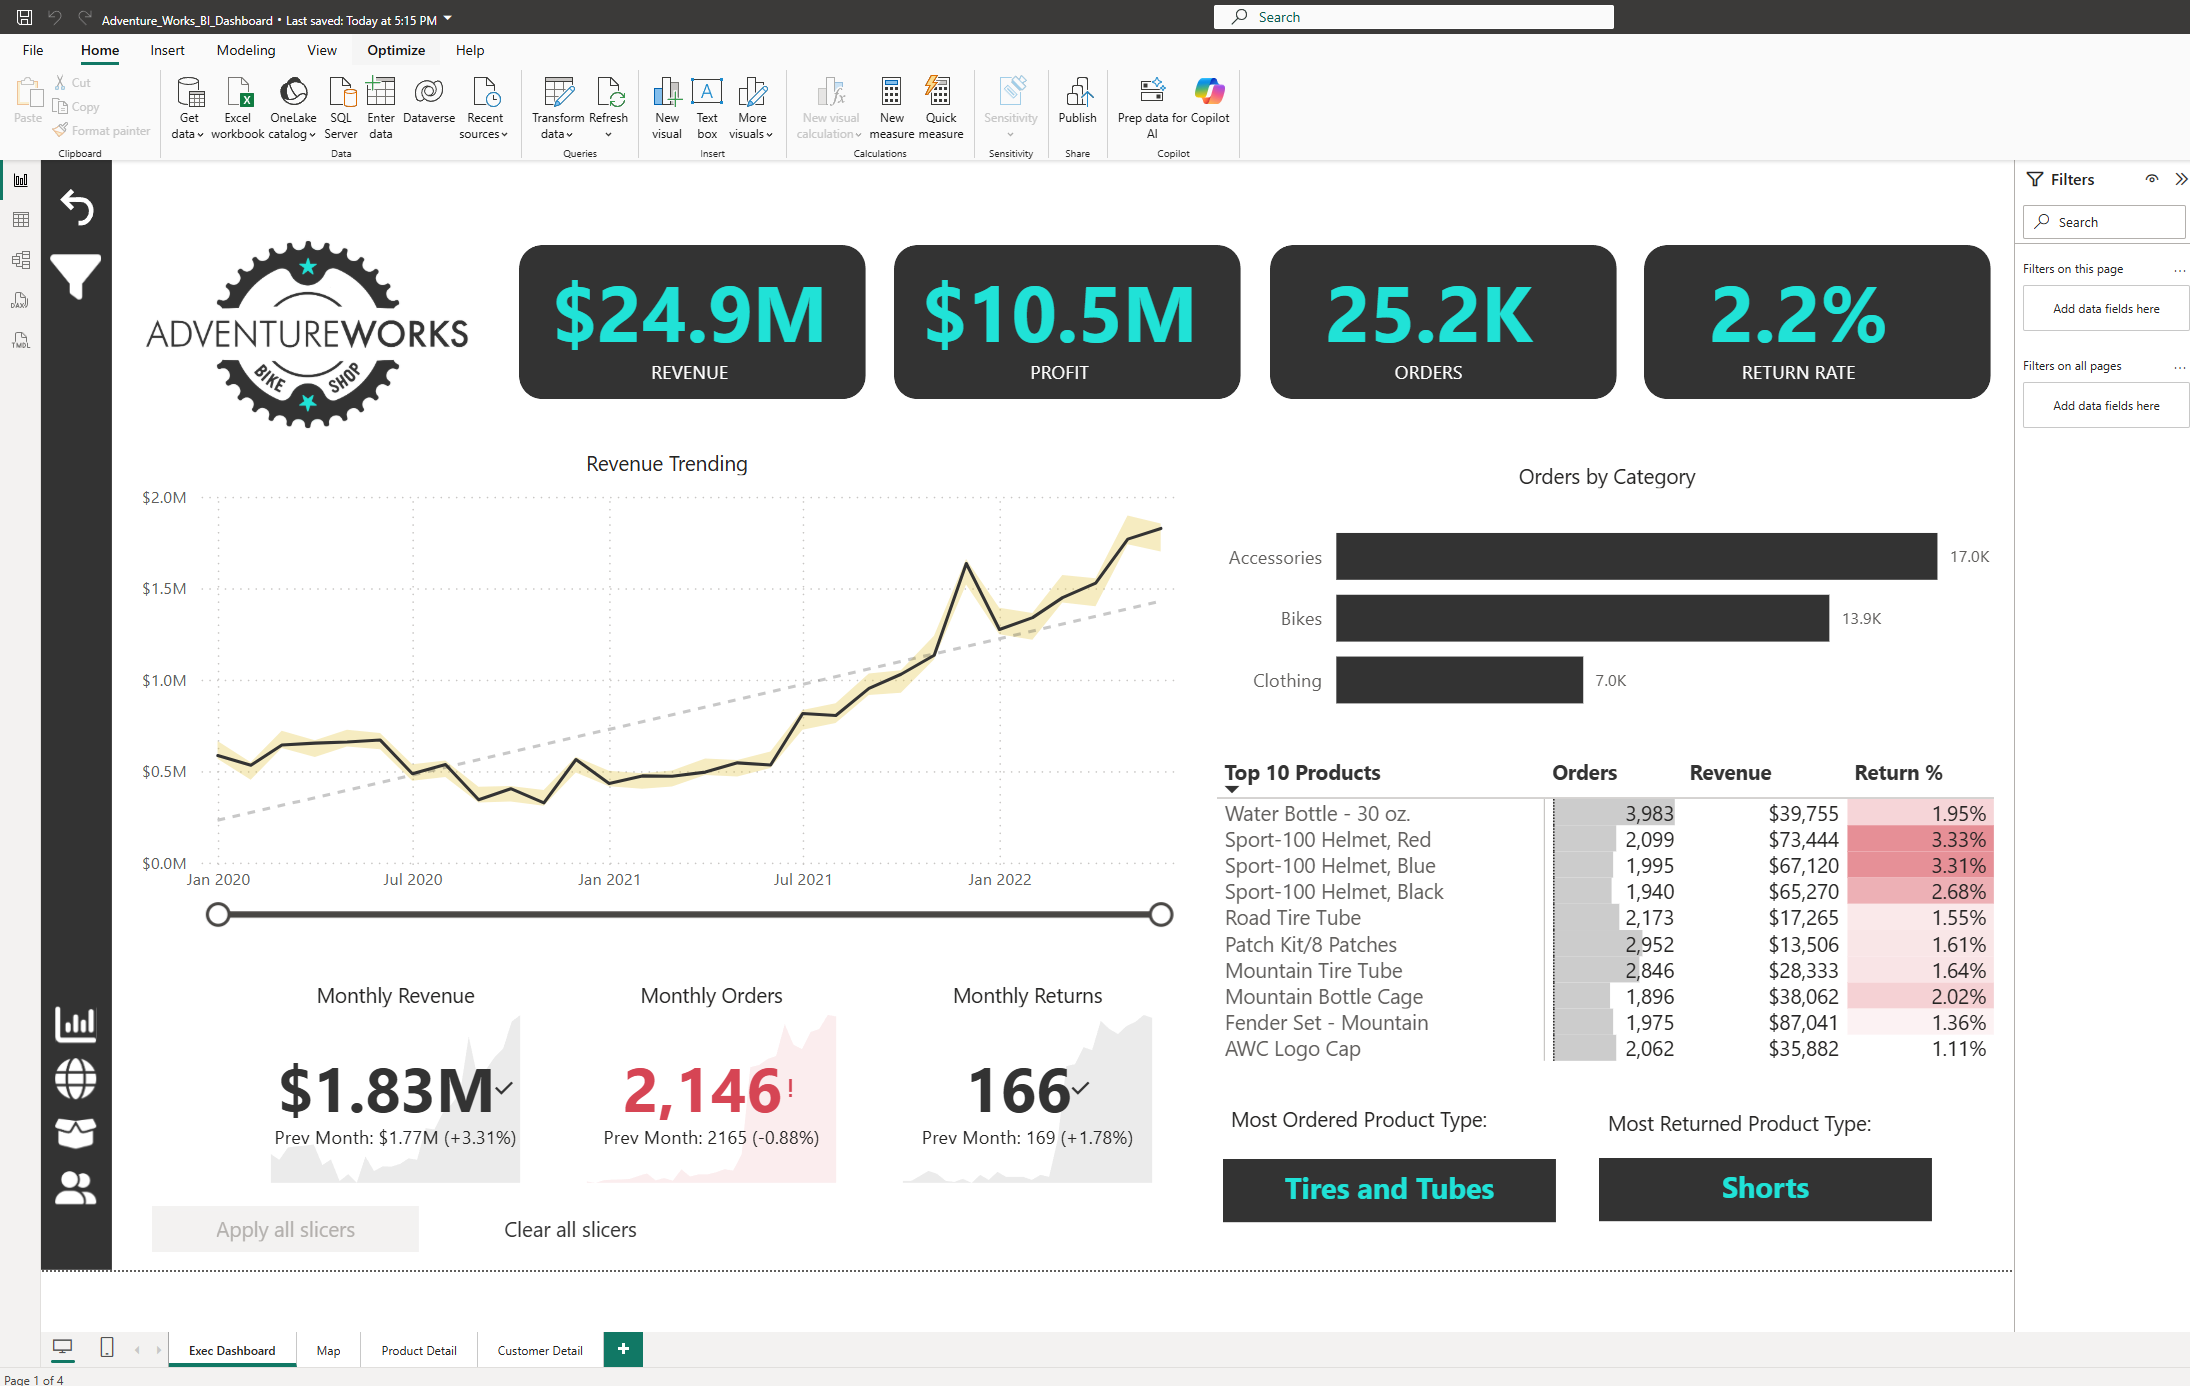

What the dashboard file says about the page in this screenshot:
{"tool":"powerbi","page":{"name":"Exec Dashboard","canvas":[1280,720],"ordinal":0},"visuals":[{"type":"card","fields":{"Values":["Measure Table.Total Revenue"]},"box":[287.9,30,265.7,150],"z":0,"group":"g3"},{"type":"image","title":"AW Logo","box":[40,38.6,266.4,149.3],"z":0},{"type":"shape","box":[310,55,225,100],"z":0,"group":"g2"},{"type":"actionButton","box":[5,543.7,36.6,34.7],"z":0,"group":"g4"},{"type":"shape","title":"Left Nav Background","box":[0,0,46.4,720],"z":1000},{"type":"card","fields":{"Values":["Measure Table.Total Profit"]},"box":[527.7,30,265.7,150],"z":1000,"group":"g3"},{"type":"shape","box":[553.6,55,225,100],"z":1000,"group":"g2"},{"type":"actionButton","box":[5,579,36.6,34.7],"z":1000,"group":"g4"},{"type":"group","id":"g1","title":"KPIs","box":[287.9,30,985,150],"z":2000},{"type":"card","fields":{"Values":["Measure Table.Total Orders"]},"box":[767.4,30,265.7,150],"z":2000,"group":"g3"},{"type":"group","id":"g2","title":"KPI Backgrounds","box":[310,55,955,100],"z":2000,"group":"g1"},{"type":"shape","box":[797.1,55,225,100],"z":2000,"group":"g2"},{"type":"actionButton","box":[5,614.4,36.6,34.7],"z":2000,"group":"g4"},{"type":"group","id":"g3","title":"KPI Values","box":[287.9,30,985,150],"z":3000,"group":"g1"},{"type":"card","fields":{"Values":["Measure Table.Return Rate"]},"box":[1007.2,30,265.7,150],"z":3000,"group":"g3"},{"type":"shape","box":[1040,55,225,100],"z":3000,"group":"g2"},{"type":"lineChart","title":"Revenue Trending","fields":{"Y":["Measure Table.Total Revenue"],"Category":["Calendar Lookup.Start of Month"]},"box":[59.7,187.5,692.9,313.4],"z":3000},{"type":"actionButton","box":[5,649.7,36.6,34.7],"z":3000,"group":"g4"},{"type":"kpi","title":"Monthly Revenue","fields":{"Indicator":["Measure Table.Total Revenue"],"TrendLine":["Calendar Lookup.Start of Month"],"Goal":["Measure Table.Previous Month Revenue"]},"box":[144,532.7,172,136],"z":4000},{"type":"kpi","title":"Monthly Orders","fields":{"TrendLine":["Calendar Lookup.Start of Month"],"Indicator":["Measure Table.Total Orders"],"Goal":["Measure Table.Previous Months Orders"]},"box":[349,532.7,172,136],"z":5000},{"type":"kpi","title":"Monthly Returns","fields":{"TrendLine":["Calendar Lookup.Start of Month"],"Indicator":["Measure Table.Total Returns"],"Goal":["Measure Table.Previous Month Returns"]},"box":[554,532.7,172,136],"z":6000},{"type":"clusteredBarChart","title":"Orders by Category","fields":{"Category":["Product Categories Lookup.CategoryName"],"Y":["Measure Table.Total Orders"]},"box":[760.7,196,511.3,179.3],"z":7000},{"type":"pivotTable","fields":{"Rows":["Product Lookup.ProductName"],"Values":["Measure Table.Total Orders","Measure Table.Total Revenue","Measure Table.Return Rate"]},"box":[757.7,383.4,517.7,217.3],"z":8000},{"type":"card","fields":{"Values":["Min(Product Subcategories Lookup.SubcategoryName)"]},"box":[767,648,216,40.9],"z":9000},{"type":"textbox","box":[767,608.4,216,31.8],"z":10000},{"type":"card","fields":{"Values":["Min(Product Subcategories Lookup.SubcategoryName)"]},"box":[1011,647.7,216,40.9],"z":11000},{"type":"textbox","box":[1011.3,611,216,31.8],"z":12000},{"type":"actionButton","box":[7.1,10.7,32.9,38.6],"z":13000},{"type":"group","id":"g4","title":"Navigation Buttons","box":[5,543.7,36.8,141.3],"z":14000},{"type":"actionButton","box":[2.1,55,41.4,42.1],"z":15000},{"type":"actionButton","box":[72,678.6,173.2,29.8],"z":17000},{"type":"actionButton","box":[256.9,678.6,173.2,29.8],"z":18000}]}

Visuals, with their boxes on the page's 1280x720 design canvas (x1, y1, x2, y2). These are canvas units, not pixel positions in the 2190x1386 screenshot, which may show the page scaled, cropped or inside an application window:
card - Measure Table.Total Revenue: BBox(288, 30, 554, 180)
"AW Logo" image: BBox(40, 39, 306, 188)
shape: BBox(310, 55, 535, 155)
actionButton: BBox(5, 544, 42, 578)
"Left Nav Background" shape: BBox(0, 0, 46, 720)
card - Measure Table.Total Profit: BBox(528, 30, 793, 180)
shape: BBox(554, 55, 779, 155)
actionButton: BBox(5, 579, 42, 614)
"KPIs" group: BBox(288, 30, 1273, 180)
card - Measure Table.Total Orders: BBox(767, 30, 1033, 180)
"KPI Backgrounds" group: BBox(310, 55, 1265, 155)
shape: BBox(797, 55, 1022, 155)
actionButton: BBox(5, 614, 42, 649)
"KPI Values" group: BBox(288, 30, 1273, 180)
card - Measure Table.Return Rate: BBox(1007, 30, 1273, 180)
shape: BBox(1040, 55, 1265, 155)
"Revenue Trending" lineChart: BBox(60, 188, 753, 501)
actionButton: BBox(5, 650, 42, 684)
"Monthly Revenue" kpi: BBox(144, 533, 316, 669)
"Monthly Orders" kpi: BBox(349, 533, 521, 669)
"Monthly Returns" kpi: BBox(554, 533, 726, 669)
"Orders by Category" clusteredBarChart: BBox(761, 196, 1272, 375)
pivotTable - Product Lookup.ProductName x Measure Table.Total Orders: BBox(758, 383, 1275, 601)
card - Min(Product Subcategories Lookup.SubcategoryName): BBox(767, 648, 983, 689)
textbox: BBox(767, 608, 983, 640)
card - Min(Product Subcategories Lookup.SubcategoryName): BBox(1011, 648, 1227, 689)
textbox: BBox(1011, 611, 1227, 643)
actionButton: BBox(7, 11, 40, 49)
"Navigation Buttons" group: BBox(5, 544, 42, 685)
actionButton: BBox(2, 55, 44, 97)
actionButton: BBox(72, 679, 245, 708)
actionButton: BBox(257, 679, 430, 708)
